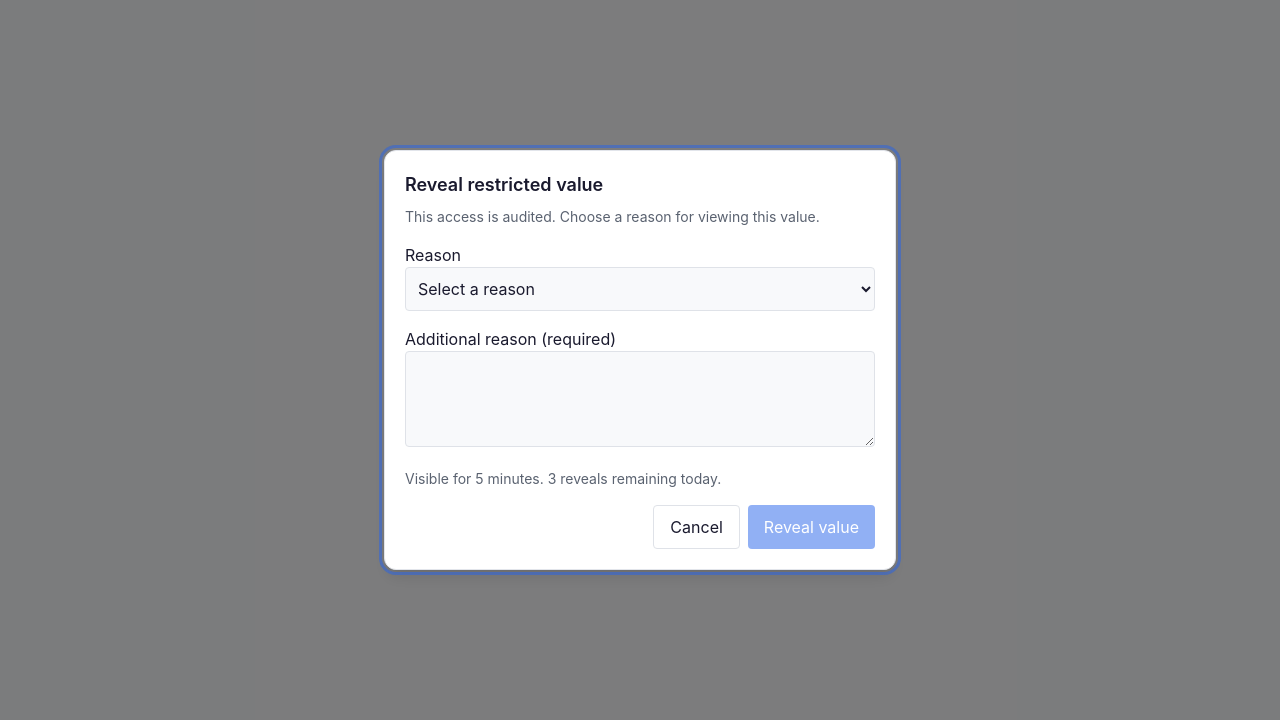
secured data UI › loads options, validates required reasons, submits and reports inline refusal
The image size is (1280, 720).
Expected: the text "Visible for 5 minutes. 3 reveals remaining today." is shown, [405, 470, 721, 487]
Expected: the button "Reveal value" is disabled, [748, 505, 875, 549]
Select "Customer support" in the dropdown labelled "Reason": (640, 289) [405, 267, 875, 311]
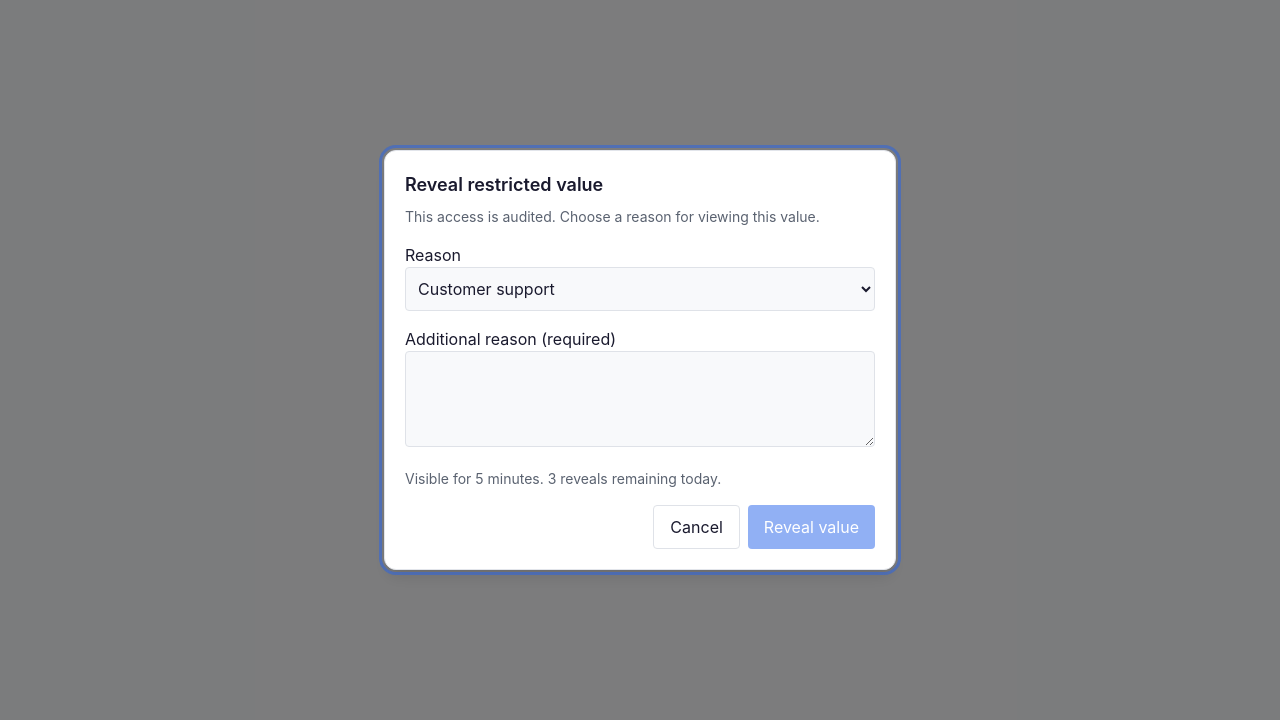
Expected: the button "Reveal value" is disabled, [748, 505, 875, 549]
In the text box labelled "Additional reason (required)": (640, 399) [405, 351, 875, 447], type "Confirm caller identity"
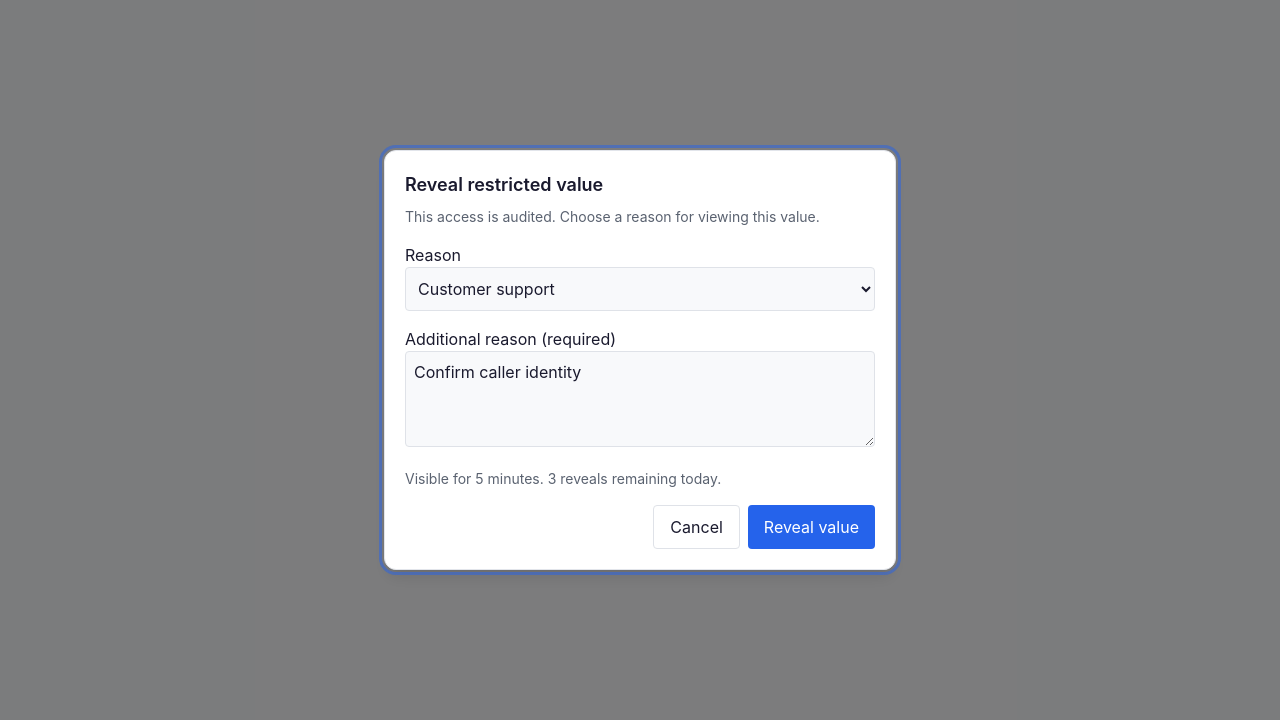
Click the button "Reveal value": click(811, 527) [748, 505, 875, 549]
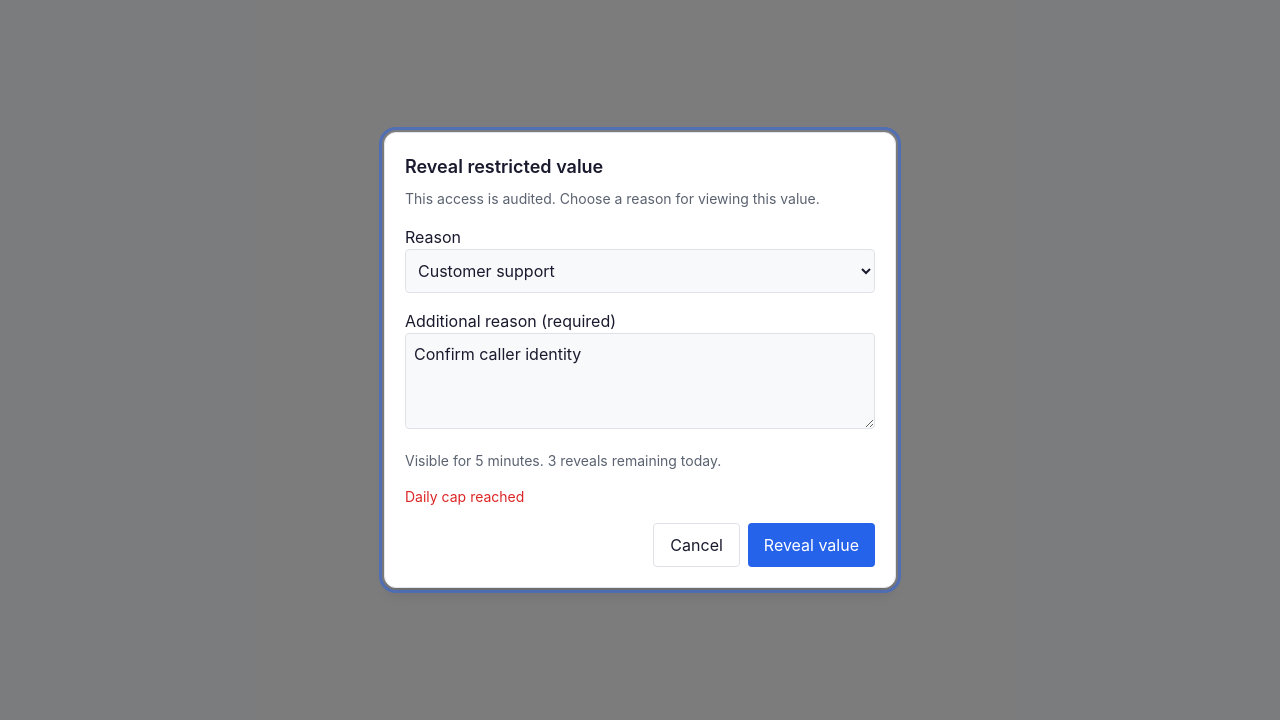
Expected: the message reads "Daily cap reached", [405, 488, 524, 505]
